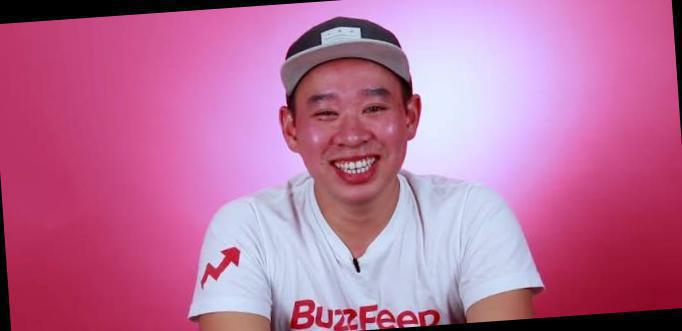Drunk: (303, 74, 402, 198)
